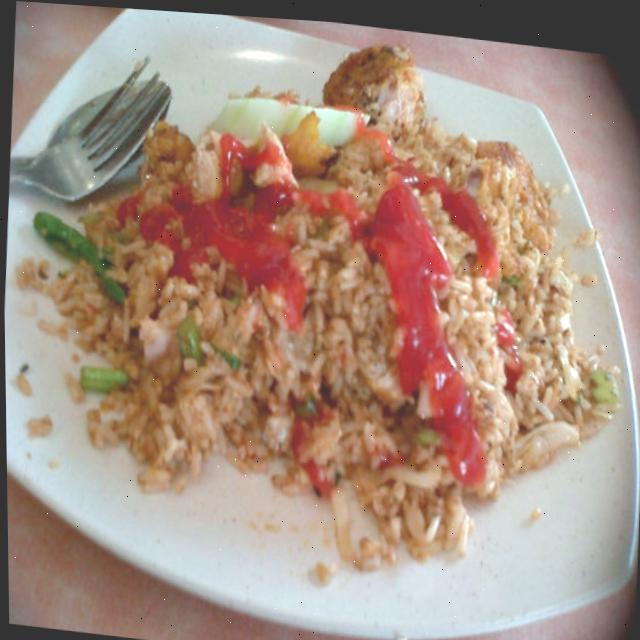米饭主食: (15, 15, 625, 618)
